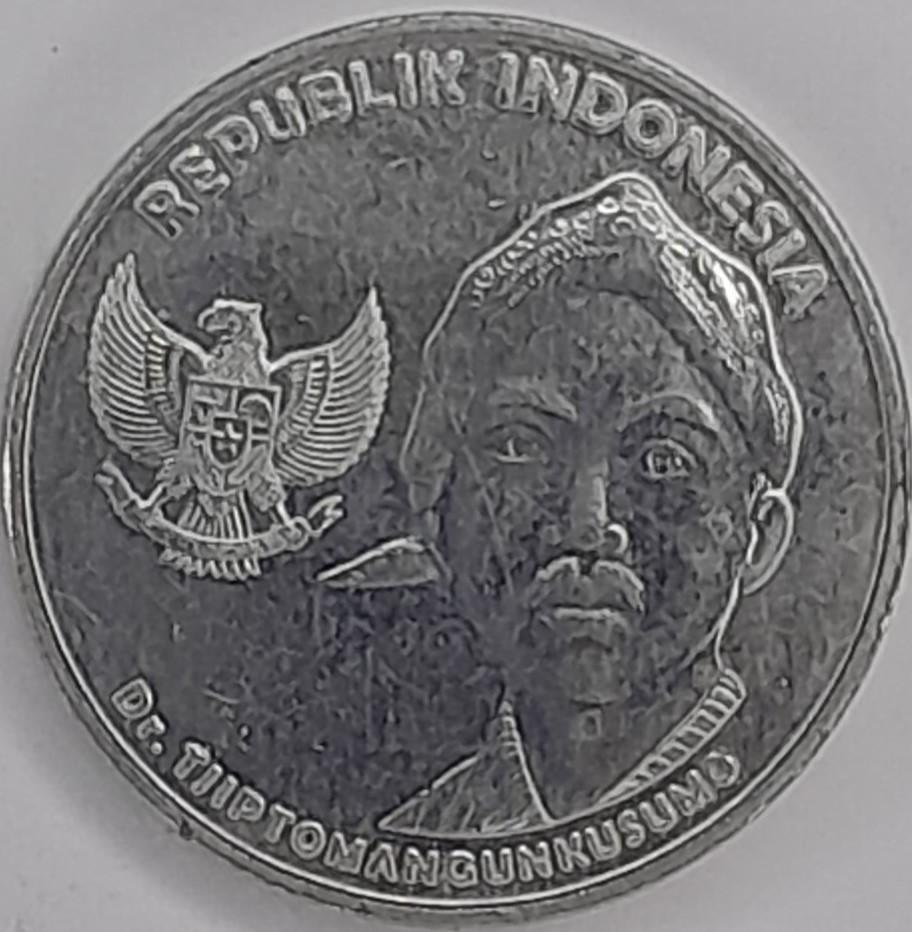coin_200_e2016: (0, 16, 912, 932)
